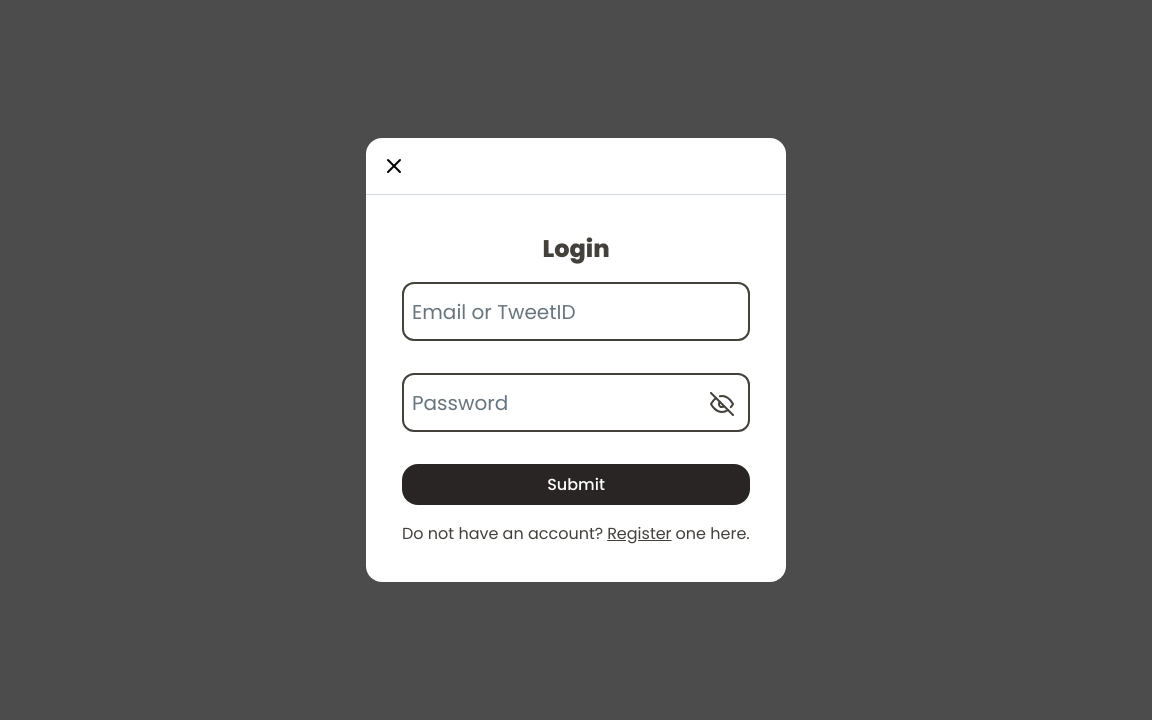
Test: valid but not in database › user exists, but the password is wrong
Type "random text" into the field labelled "Email or TweetID" at (576, 312), box [402,282,750,341]
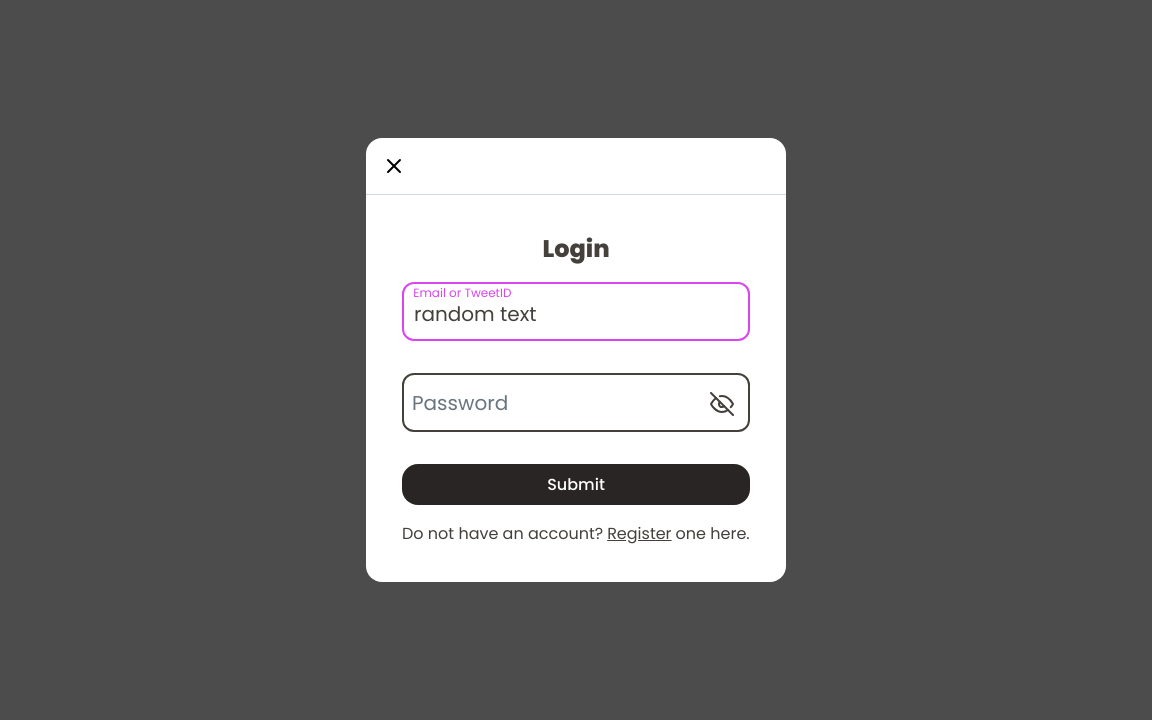
Type "random password" into the password field labelled "Password" at (576, 402), box [402,373,750,432]
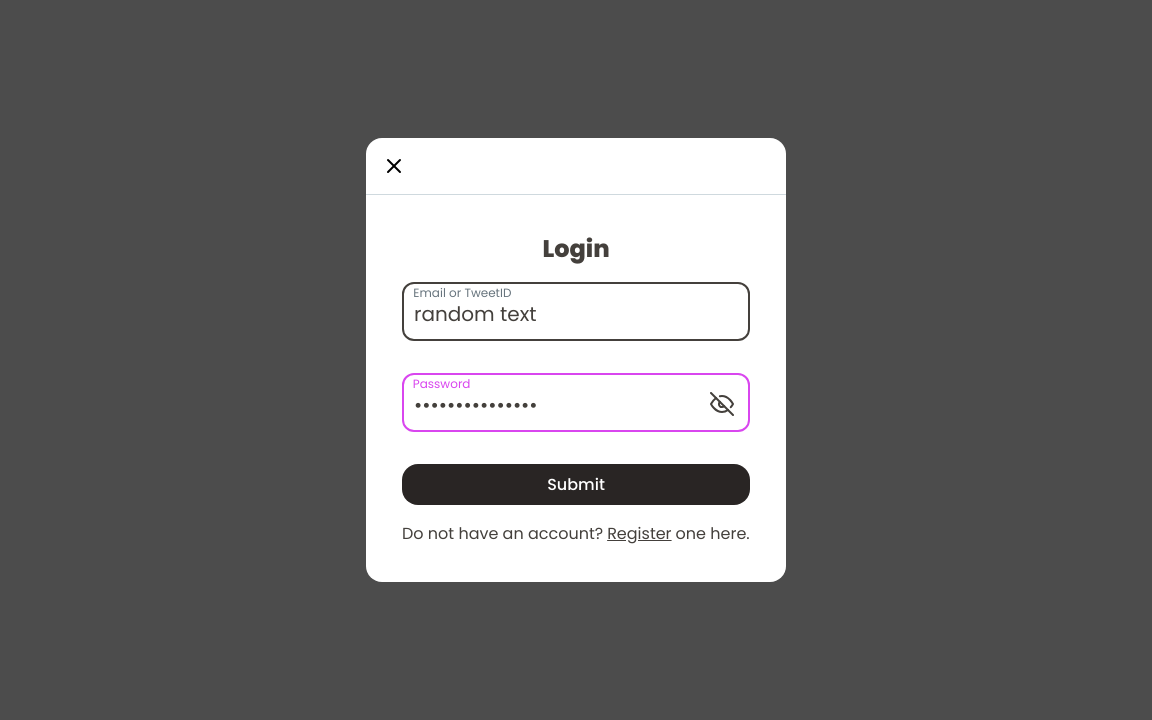
Click the button "Submit" at (576, 484), box [402,464,750,505]
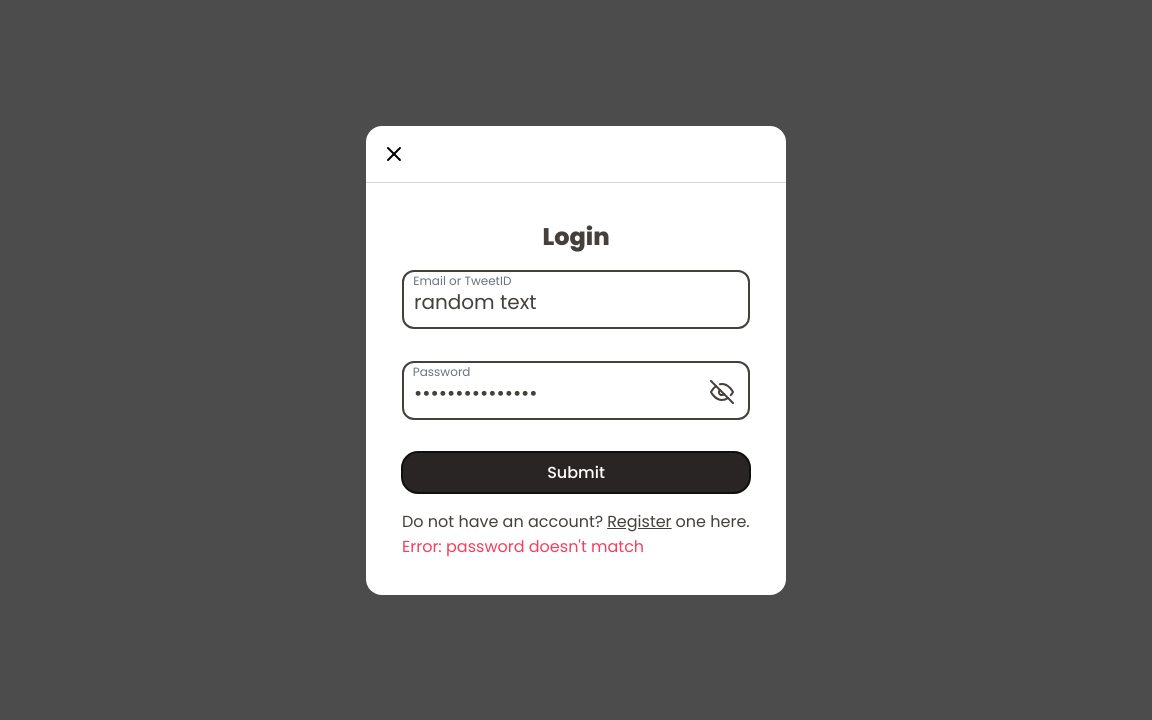
Check: the text "Error: password doesn't match" is shown, box [402,534,644,558]
